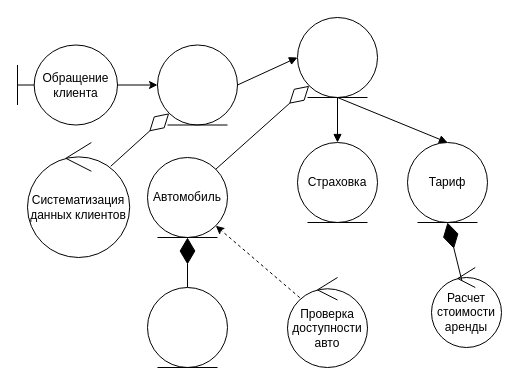
Image size: 519x385. Some labels were removed from this diagram. Here are the shapes that lost their labels. From the top down, the centre of each, then its label:
(x=337, y=57): Аренда
(x=197, y=84): Клиент
(x=187, y=327): Категория
